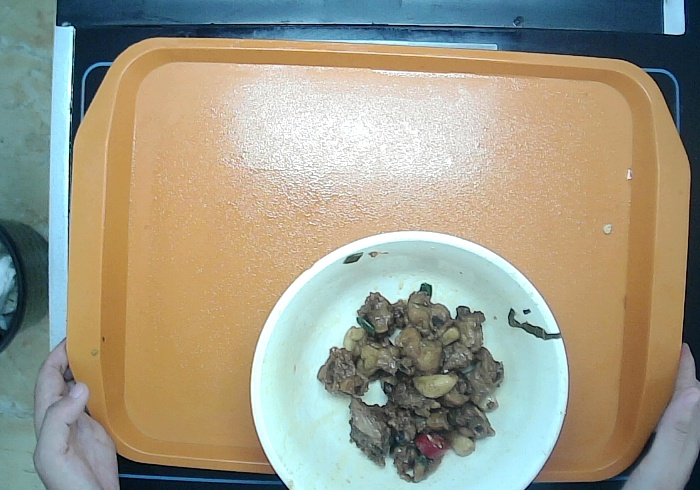ZNLD-Da_Tang_Wan: (241, 218, 580, 490)
